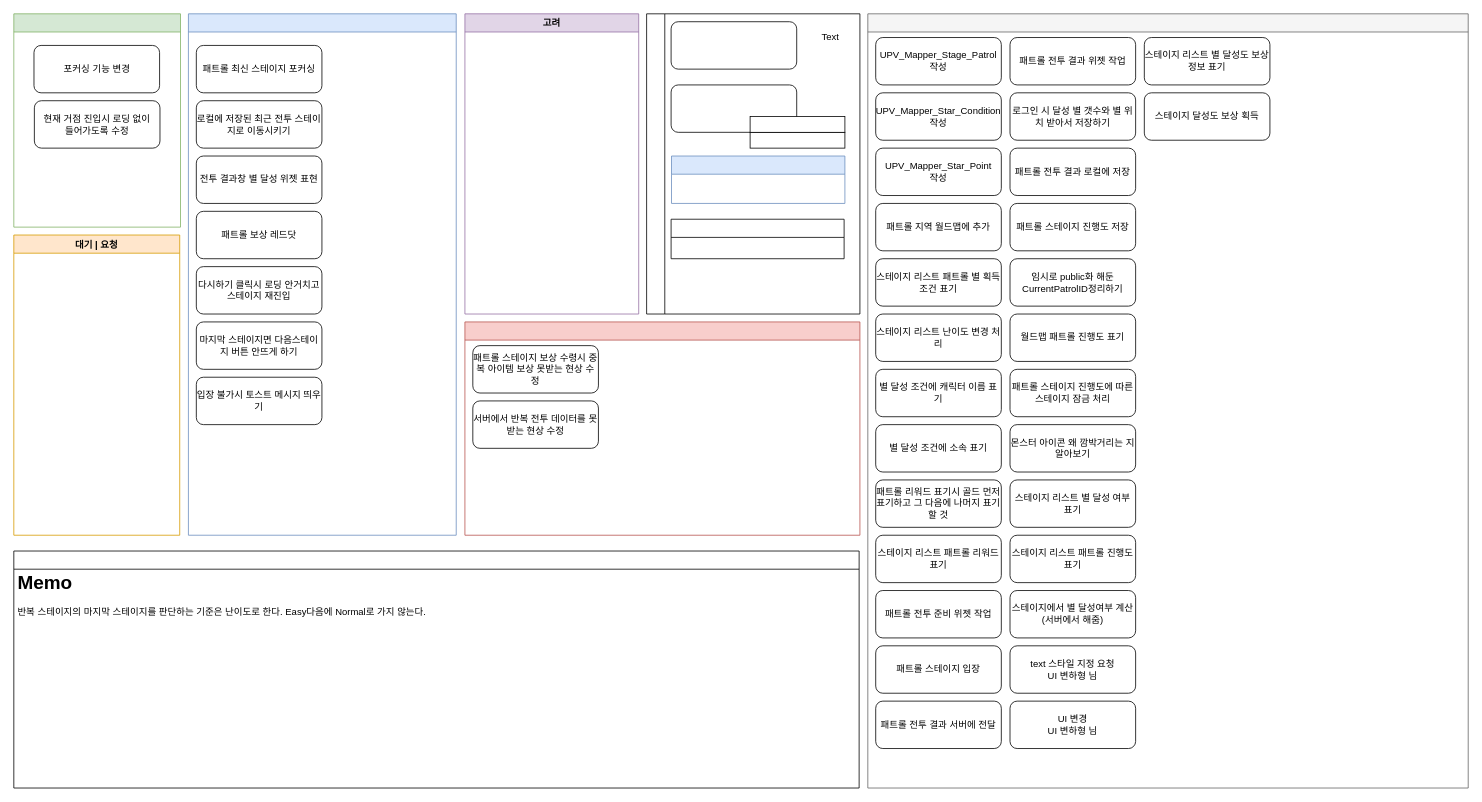
This 1482x802 diagram has some shape labels left out. Each missing label, with the box of its shape:
My Comment: (13, 550, 859, 788)
Tool: (646, 13, 860, 314)
구현: (188, 13, 456, 535)
분석 | 논의: (13, 13, 181, 227)
에러 | 수정: (464, 321, 860, 535)
폐기 | 완료: (867, 13, 1468, 788)
